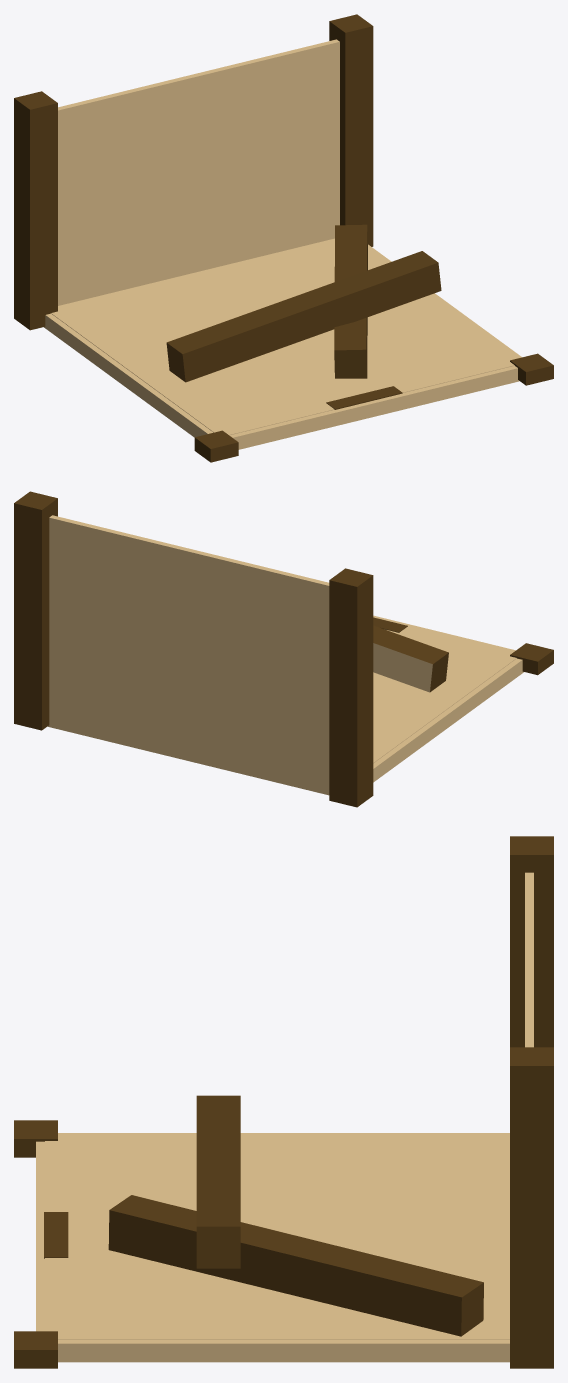
File: HouseT1_2.fbx
3 renders of one model, top to bottom at view 1: azimuth 30°, elevation 25°; view 2: azimuth 150°, elevation 25°; view 3: azimuth 270°, elevation 25°, orthographic. The views are drawn at different scales.
Parts seen in each view (by area): view 1: HouseT1_2; view 2: HouseT1_2; view 3: HouseT1_2.
Part boxes in pixels (left/top/right/bottom): HouseT1_2: left=14, top=14, right=553, bottom=462; HouseT1_2: left=14, top=491, right=553, bottom=807; HouseT1_2: left=14, top=836, right=553, bottom=1368.
Bounding box in the file's own units: 803 × 500 × 808.
